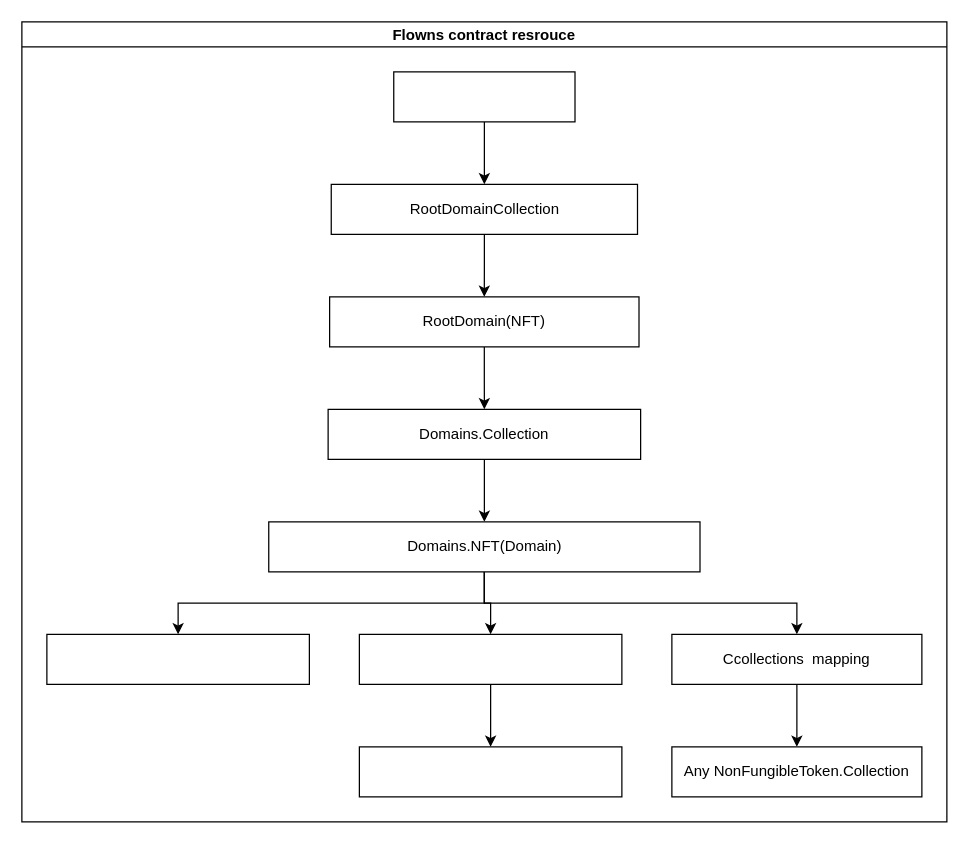
Image size: 969x844. Some labels were removed from this diagram. The centre of each missing label's shape, as x and y in pixels:
Admin resource: the point at 483,96
Any FungibleToken.Vault: the point at 490,771
Domains.Subdomain(NFT): the point at 177,658
Vaults mapping: the point at 490,658
